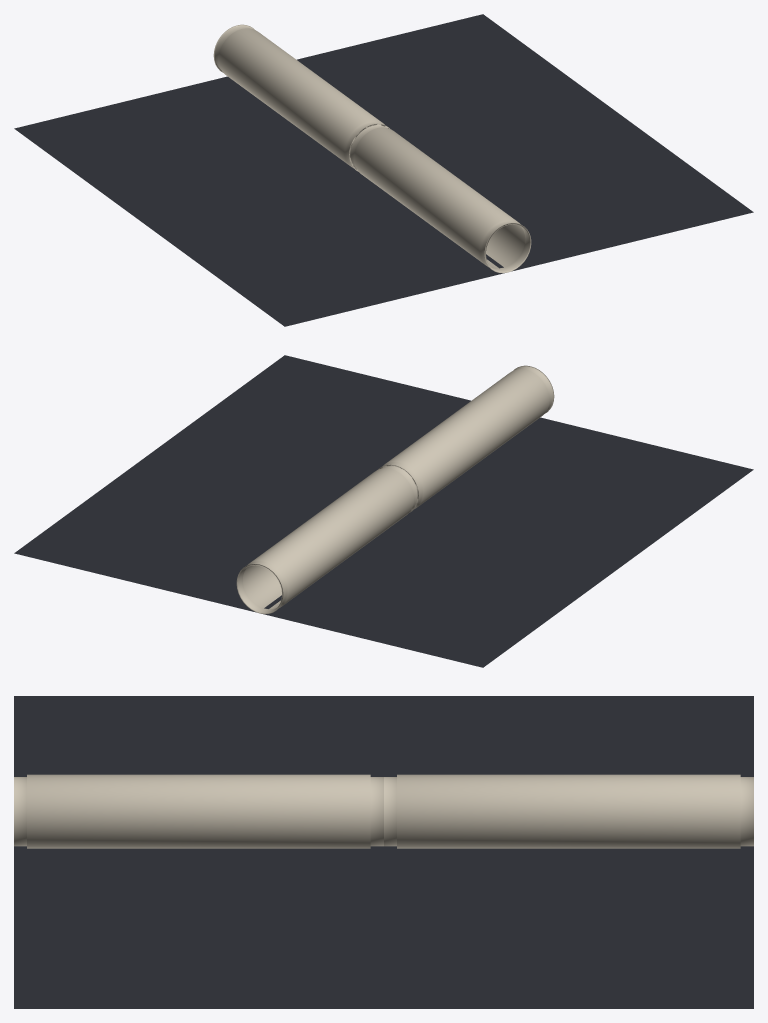
The model's file is s_tile.glb.
3 renders of one model, top to bottom at view 1: azimuth 30°, elevation 25°; view 2: azimuth 150°, elevation 25°; view 3: azimuth 270°, elevation 25°, orthographic. The views are drawn at different scales.
Visible parts, largest first — view 1: Plane, Cylinder.001; view 2: Plane, Cylinder.001; view 3: Plane, Cylinder.001.
Part boxes in pixels (x1=…): Plane: x1=14, y1=14, x2=753, y2=326; Cylinder.001: x1=213, y1=24, x2=531, y2=273; Plane: x1=14, y1=355, x2=753, y2=667; Cylinder.001: x1=236, y1=365, x2=554, y2=614; Plane: x1=14, y1=696, x2=753, y2=1008; Cylinder.001: x1=14, y1=774, x2=753, y2=848.
Bounding box in the file's own units: 0.5 × 0.05 × 0.5.
